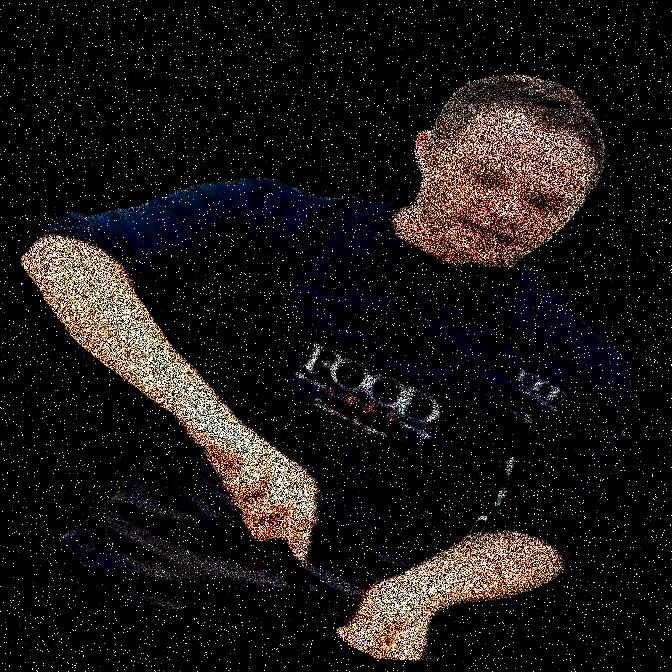Pessoa: (343, 0, 534, 671)
